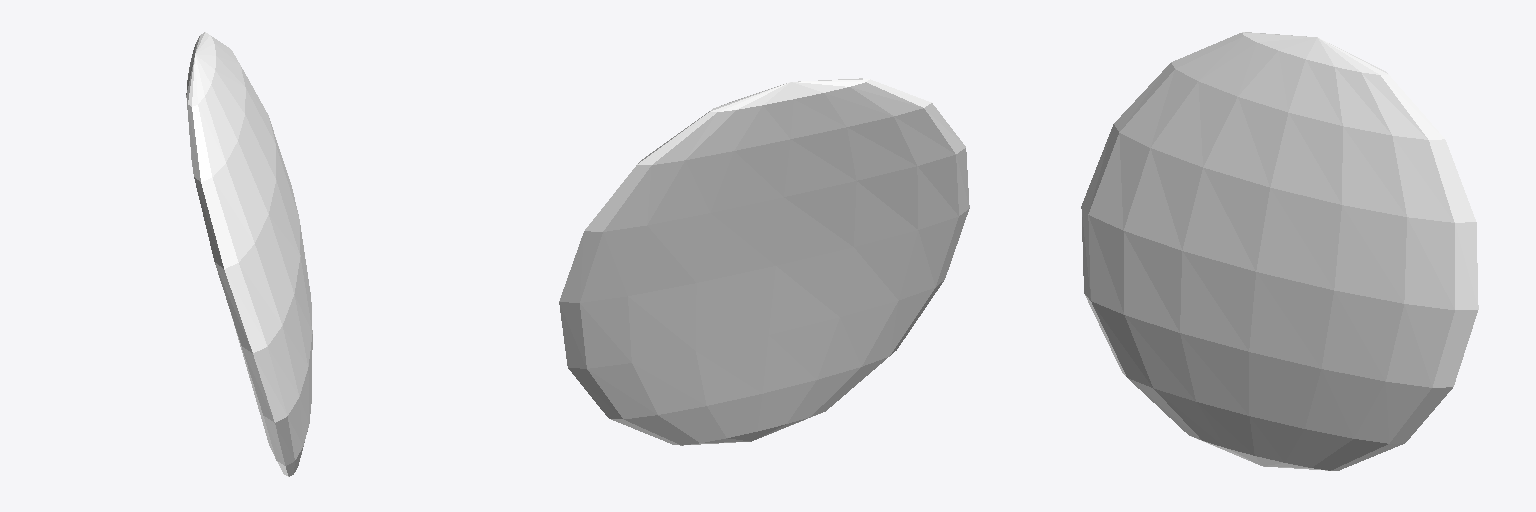
Rendered from occhio.obj.
3 renders of one model, left to right at view 1: azimuth 30°, elevation 25°; view 2: azimuth 150°, elevation 25°; view 3: azimuth 270°, elevation 25°, orthographic.
Parts seen in each view (by area): view 1: occhio.1; view 2: occhio.1; view 3: occhio.1.
Part boxes in pixels (x1,y1,x2,y2): occhio.1: (186,32,312,476); occhio.1: (559,78,969,445); occhio.1: (1081,32,1478,470).
Size of the model in its own units: 2.17 by 3.57 by 3.25.